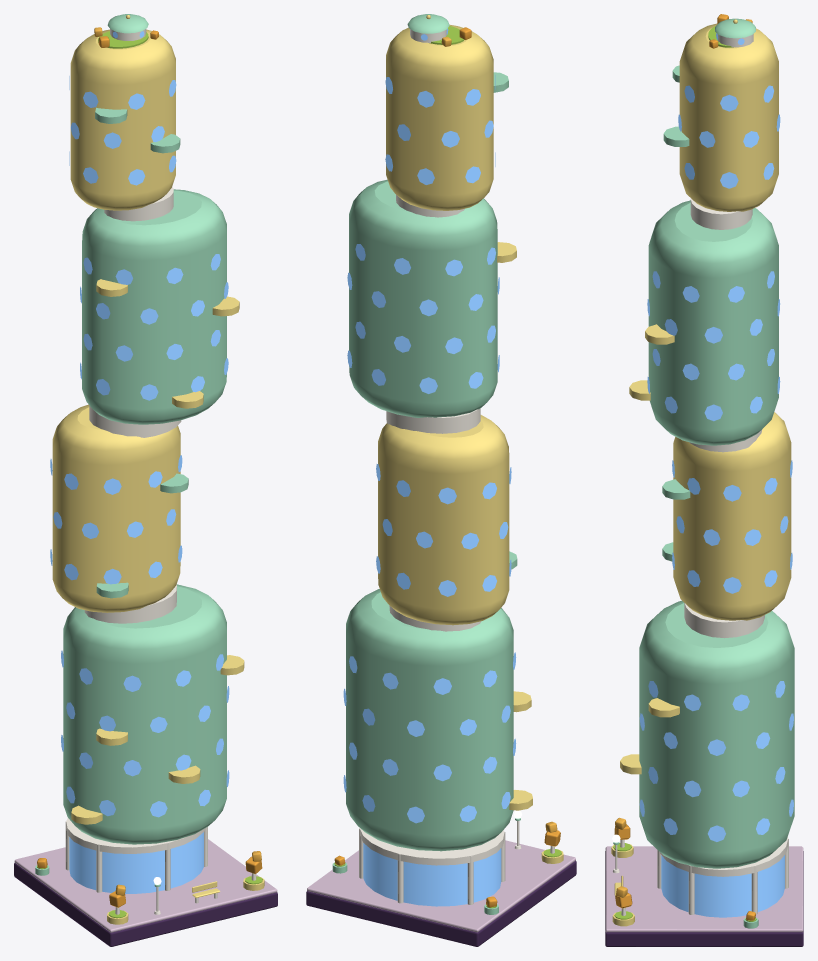
File: modern_building_3_3Level_Demo.glb
The picture shows the model from 3 angles, left to right: view 1: azimuth 30°, elevation 25°; view 2: azimuth 150°, elevation 25°; view 3: azimuth 270°, elevation 25°; orthographic projection. The views are drawn at different scales.
Parts seen in each view (by area): view 1: MB3_3_Mint3, MB3_3_Lemon3, MB3_3_Glass3, MB3_3_Paving, MB3_3_Cream3, MB3_3_Base, MB3_3_Leaf, MB3_3_Grass; view 2: MB3_3_Mint3, MB3_3_Lemon3, MB3_3_Glass3, MB3_3_Paving, MB3_3_Cream3, MB3_3_Base; view 3: MB3_3_Mint3, MB3_3_Lemon3, MB3_3_Glass3, MB3_3_Paving, MB3_3_Cream3, MB3_3_Base, MB3_3_Leaf.
Part boxes in pixels (x1,y1,x2,y2): MB3_3_Mint3: (35, 14, 226, 886); MB3_3_Lemon3: (52, 15, 264, 924); MB3_3_Glass3: (50, 31, 229, 893); MB3_3_Paving: (14, 839, 277, 932); MB3_3_Cream3: (65, 29, 256, 914); MB3_3_Base: (14, 863, 277, 946); MB3_3_Leaf: (37, 30, 262, 907); MB3_3_Grass: (37, 31, 262, 918); MB3_3_Mint3: (332, 14, 520, 914); MB3_3_Lemon3: (378, 15, 563, 863); MB3_3_Glass3: (343, 28, 516, 906); MB3_3_Paving: (307, 840, 575, 932); MB3_3_Cream3: (359, 29, 554, 904); MB3_3_Base: (306, 861, 576, 946); MB3_3_Mint3: (613, 18, 794, 928); MB3_3_Lemon3: (611, 19, 791, 926); MB3_3_Glass3: (639, 33, 793, 917); MB3_3_Paving: (605, 846, 803, 932); MB3_3_Cream3: (613, 34, 788, 915); MB3_3_Base: (605, 851, 803, 946); MB3_3_Leaf: (614, 14, 755, 920).
Bounding box in the file's own units: 3.2 × 15.73 × 3.2.
